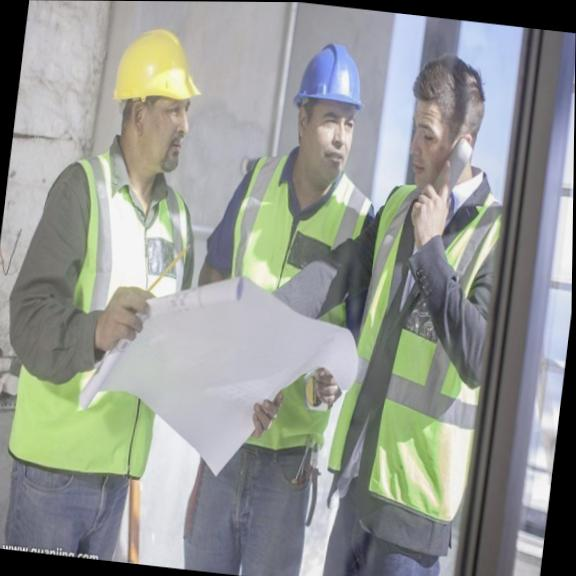safety_vest: (0, 148, 206, 478), (336, 169, 511, 521), (193, 145, 378, 445)
